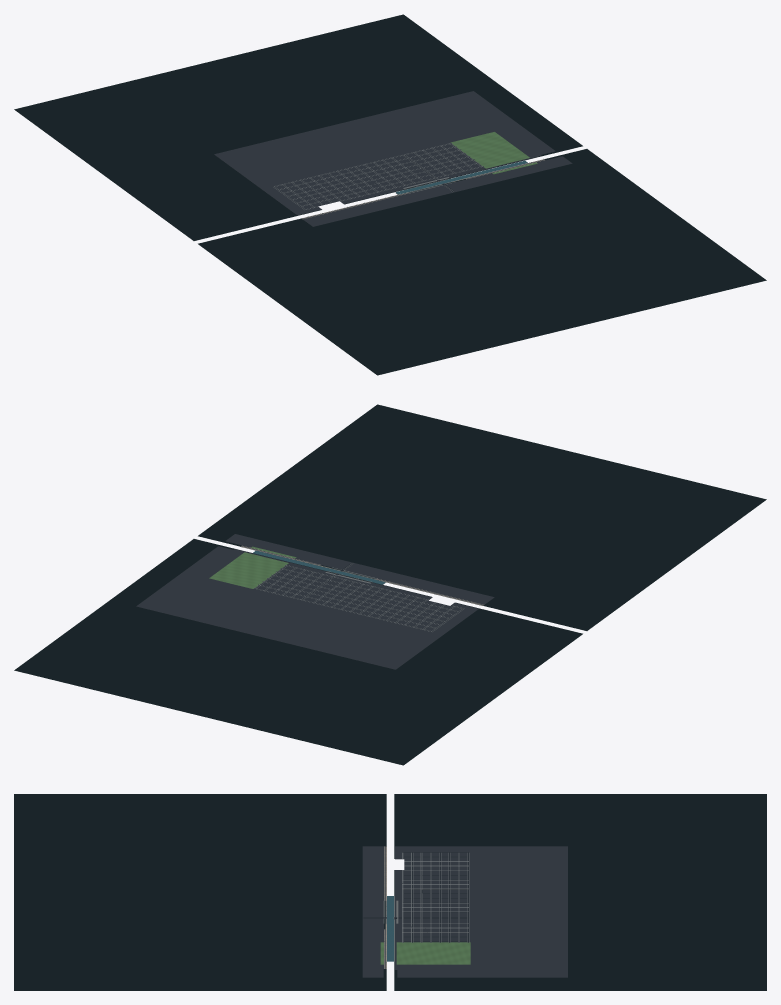
Rendered from port-waterfront.glb.
The picture shows the model from 3 angles, top to bottom: view 1: azimuth 30°, elevation 25°; view 2: azimuth 150°, elevation 25°; view 3: azimuth 270°, elevation 25°; orthographic projection. The views are drawn at different scales.
Visible parts, largest first — view 1: Square outer city ground [/129], FD_street_layout detail, Sine asphalt [/60]; view 2: Square outer city ground [/129], FD_street_layout detail, Sine asphalt [/60]; view 3: Square outer city ground [/129], FD_street_layout detail, Sine asphalt [/60], Campus meadow 3,-1, Campus meadow 3,-2.
Part boxes in pixels (x1,y1,x2,y2): Square outer city ground [/129]: (14,14,766,375); FD_street_layout detail: (214,91,572,226); Sine asphalt [/60]: (273,143,483,209); Square outer city ground [/129]: (14,404,766,765); FD_street_layout detail: (136,534,494,669); Sine asphalt [/60]: (254,562,463,631); Square outer city ground [/129]: (14,794,766,990); FD_street_layout detail: (362,846,567,977); Sine asphalt [/60]: (363,852,469,942); Campus meadow 3,-1: (398,949,427,961); Campus meadow 3,-2: (427,949,456,961).
Bounding box in the file's own units: 3000 × 10.72 × 4848.
4 materials, 4 textured.
